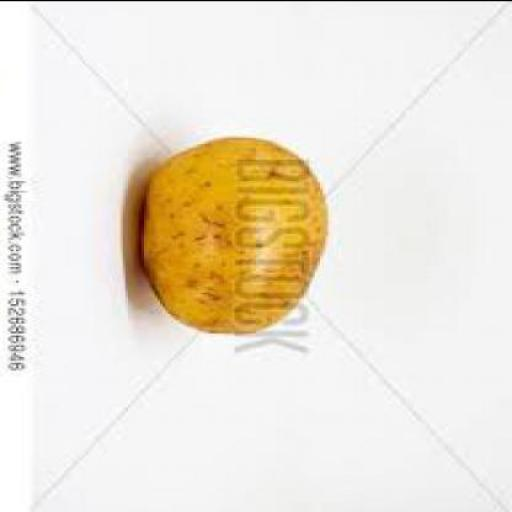biodegradable: (144, 133, 329, 330)
